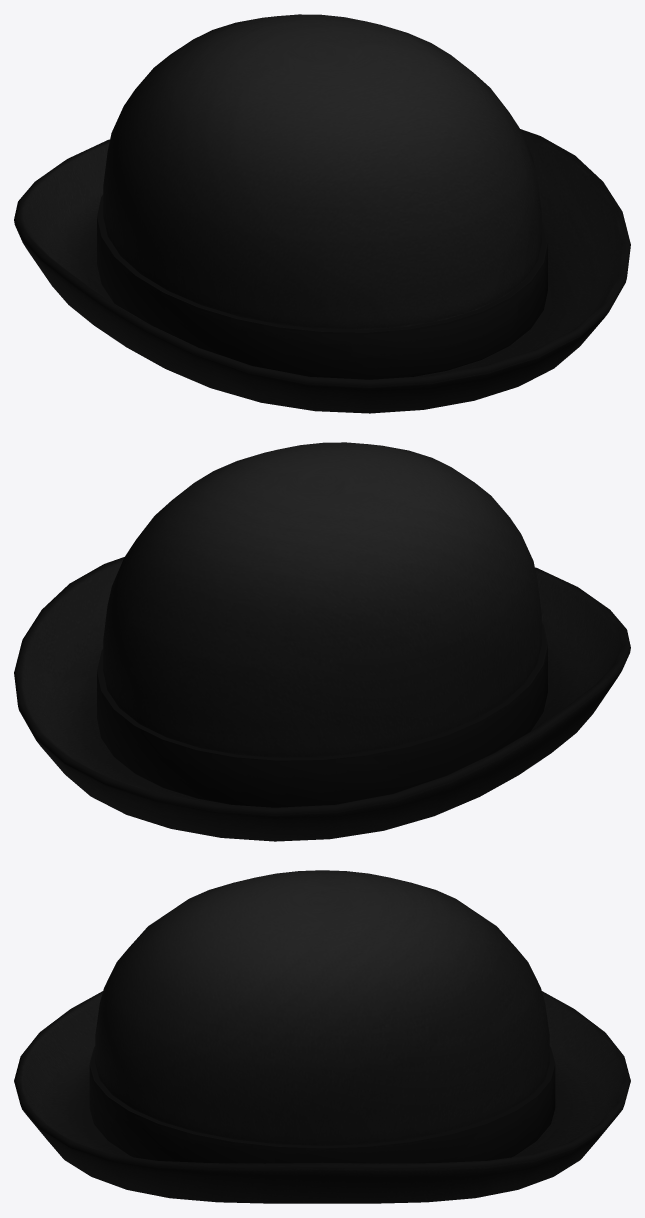
Rendered from BowlerHat.FBX.
The picture shows the model from 3 angles, top to bottom: view 1: azimuth 30°, elevation 25°; view 2: azimuth 150°, elevation 25°; view 3: azimuth 270°, elevation 25°; orthographic projection. The views are drawn at different scales.
Visible parts, largest first — view 1: BowlerHat; view 2: BowlerHat; view 3: BowlerHat.
Boxes of the visible parts, x1,y1,x2,y2 form: BowlerHat: (14,14,630,413); BowlerHat: (14,442,630,841); BowlerHat: (14,870,630,1203).
Size of the model in its own units: 47.04 by 20.96 by 53.7.
Materials: 1 (1 with a texture image).
